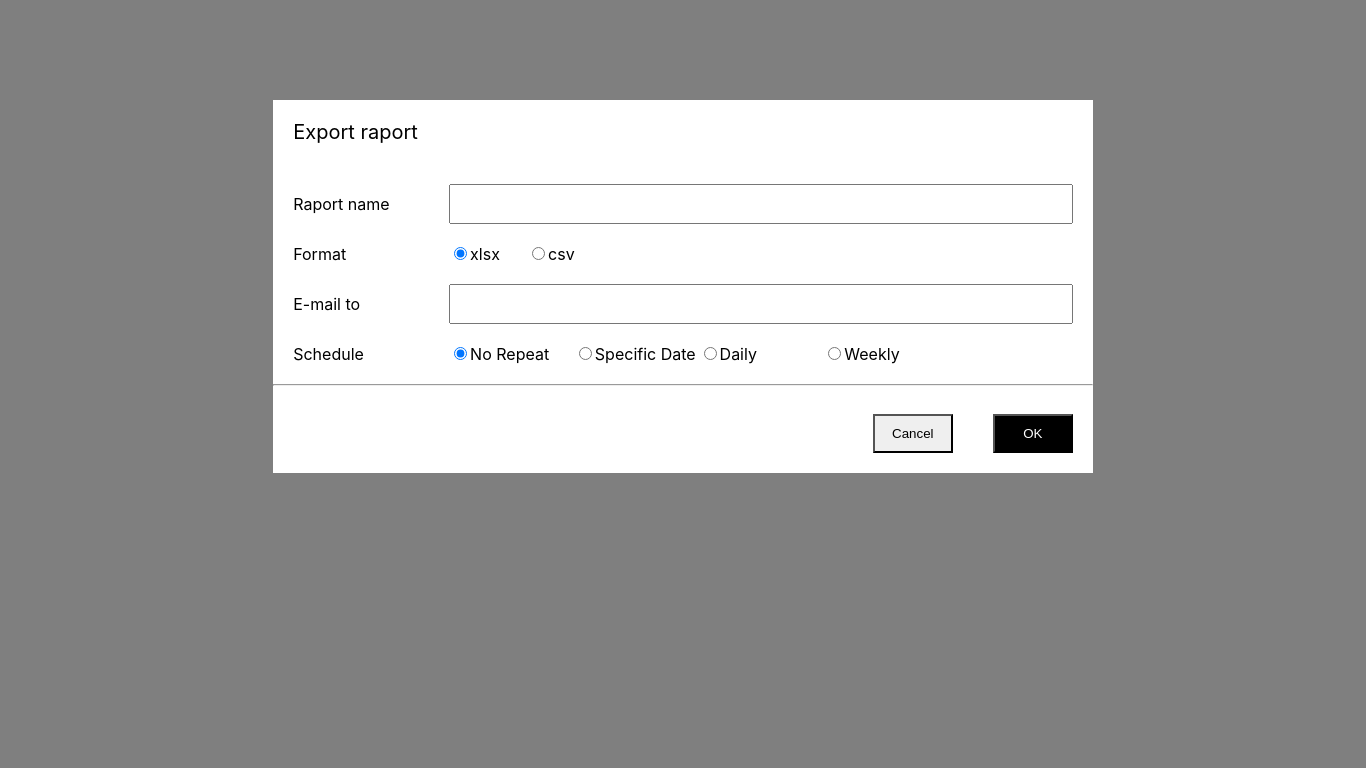
it: Checking value changes › Schedule type change for type-thre
Click the radio button with test id "type-three".
click(835, 354)  # box [828, 347, 841, 360]
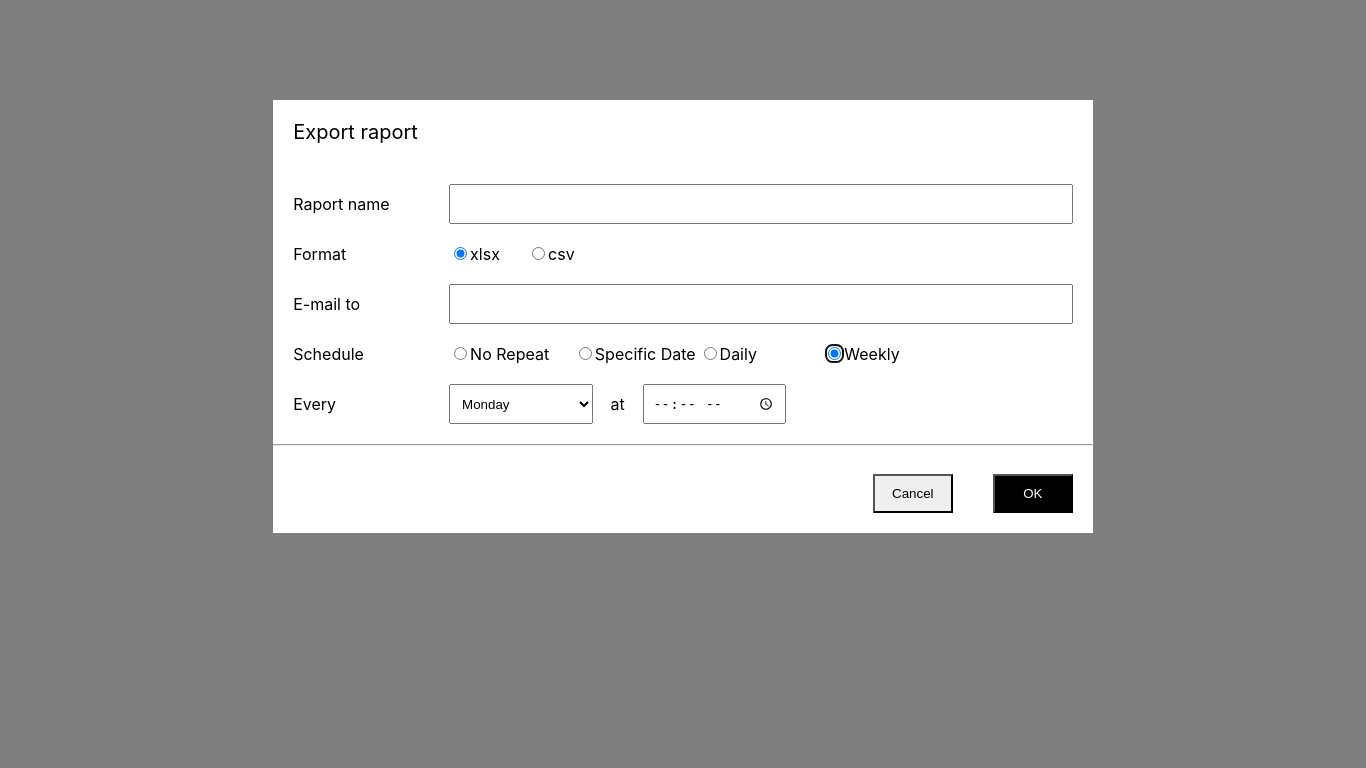
Result: the radio button with test id "type-three" is checked at [828, 347, 841, 360]
Result: the radio button with test id "type-zero" is not checked at [454, 347, 467, 360]
Result: the label with test id "schedule-label" reads "Every" at [293, 394, 336, 414]
